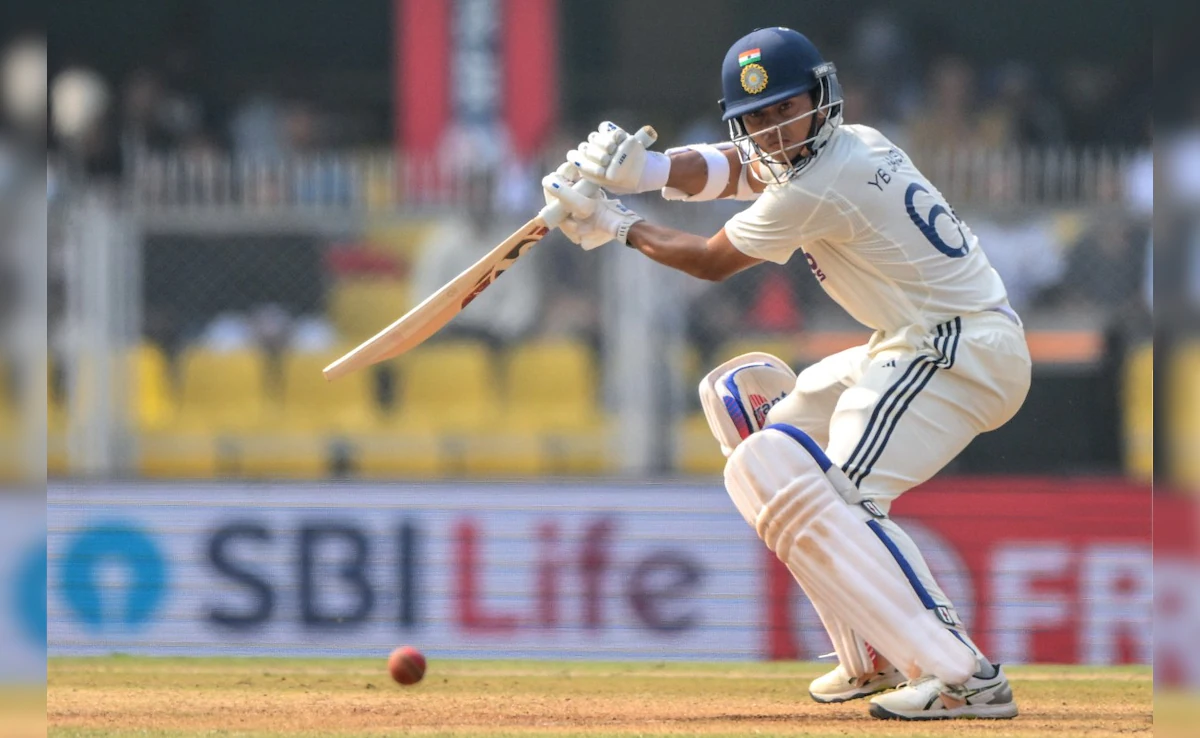Cutshot: (277, 7, 1111, 738)
